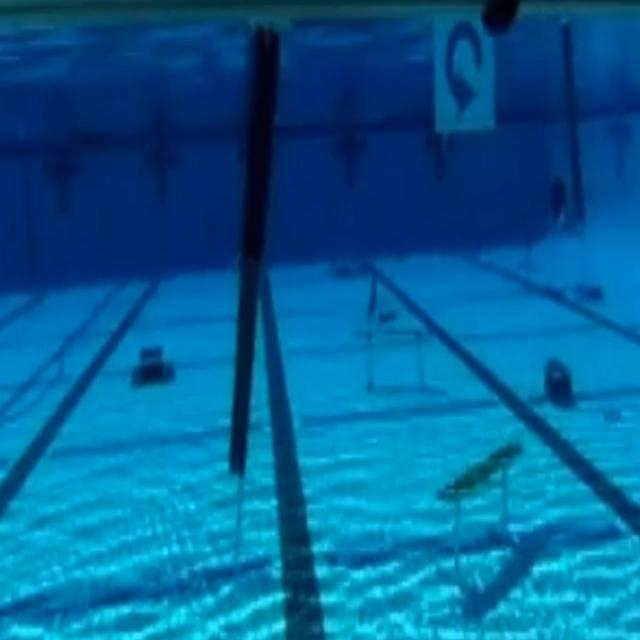Gate: (224, 9, 632, 490)
